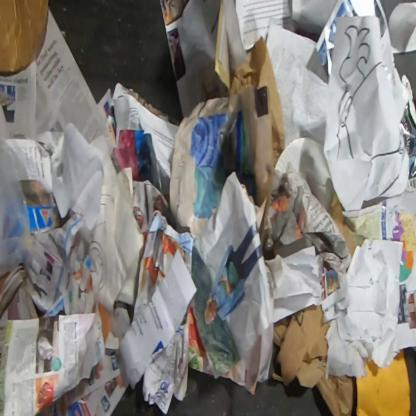cardboard: (270, 305, 357, 416), (0, 0, 50, 75), (328, 192, 356, 268), (399, 72, 415, 195)
soft_plastic: (0, 97, 34, 278)
